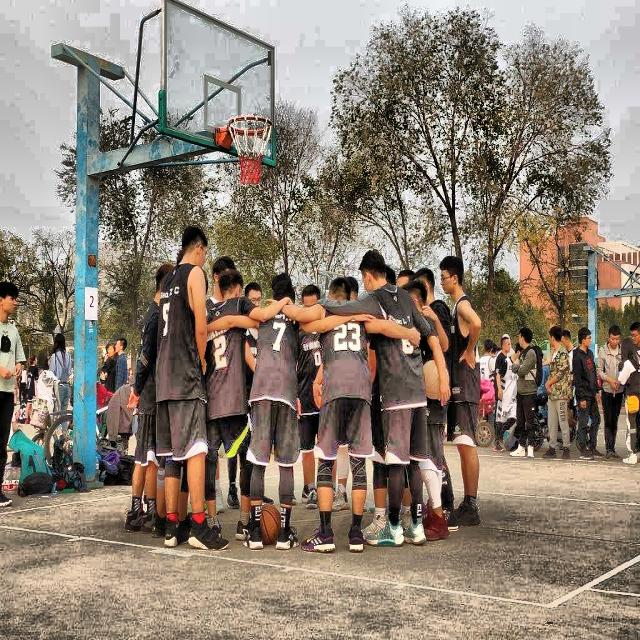rim: (226, 117, 273, 183)
